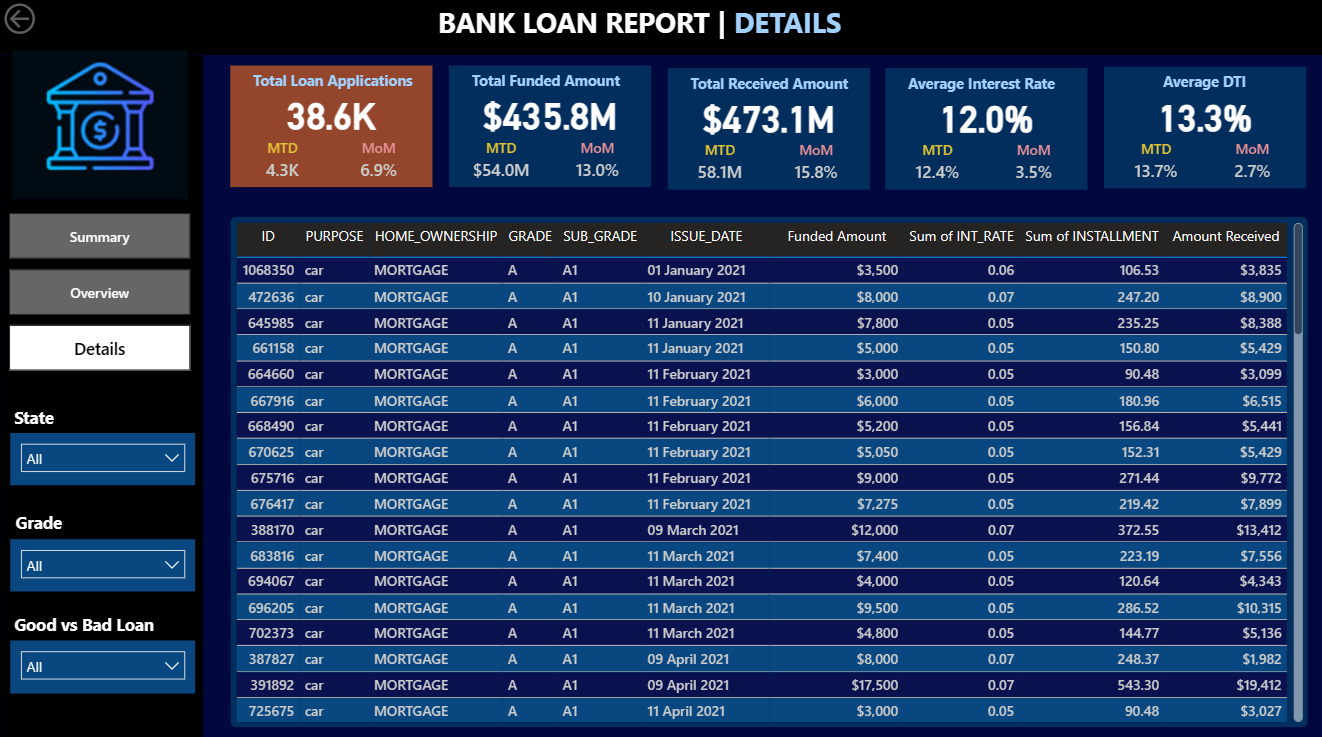

Layout of this report page (visuals, bound fields, positions):
{"tool":"powerbi","page":{"name":"Details","canvas":[1280,720],"ordinal":2},"visuals":[{"type":"shape","box":[0,0,1280.3,55],"z":0},{"type":"shape","box":[223.1,64.9,195.2,117.4],"z":0,"group":"g1"},{"type":"shape","box":[434.3,64.9,195.2,117.4],"z":0,"group":"g2"},{"type":"shape","box":[1066.7,66.2,195.2,117.4],"z":0,"group":"g5"},{"type":"shape","box":[645.5,67.6,195.2,117.4],"z":0,"group":"g3"},{"type":"shape","box":[855.4,67.6,195.2,117.4],"z":0,"group":"g4"},{"type":"card","fields":{"Values":["financial_loan.Total Loan Applications"]},"box":[223.1,79.9,195.2,64.2],"z":1000,"group":"g1"},{"type":"card","fields":{"Values":["financial_loan.Total Funded Amount"]},"box":[434.3,79.9,195.2,64.2],"z":1000,"group":"g2"},{"type":"card","fields":{"Values":["financial_loan.Avg DTI Ratio"]},"box":[1066.7,81.2,195.2,64.2],"z":1000,"group":"g5"},{"type":"card","fields":{"Values":["financial_loan.Total Amount Received"]},"box":[645.5,82.6,195.2,64.2],"z":1000,"group":"g3"},{"type":"card","fields":{"Values":["financial_loan.AVG Int Rate"]},"box":[855.4,82.6,195.2,64.2],"z":1000,"group":"g4"},{"type":"shape","box":[222.9,211.4,1040,492.9],"z":1000},{"type":"shape","box":[1.4,55.7,195.7,664.3],"z":2000},{"type":"textbox","box":[239.5,64.9,203.4,30],"z":2000,"group":"g1"},{"type":"textbox","box":[450.7,64.9,203.4,30],"z":2000,"group":"g2"},{"type":"textbox","box":[1118.1,66.3,148.6,39.3],"z":2000,"group":"g5"},{"type":"textbox","box":[661.9,67.6,203.4,30],"z":2000,"group":"g3"},{"type":"textbox","box":[871.8,67.6,203.4,30],"z":2000,"group":"g4"},{"type":"textbox","box":[418.2,0,443.8,55.1],"z":3000},{"type":"card","title":"MTD","fields":{"Values":["financial_loan.MTD Loan Applications"]},"box":[239.5,134.5,66.9,47.8],"z":3000,"group":"g1"},{"type":"card","title":"MTD","fields":{"Values":["financial_loan.MTD Funded Amount"]},"box":[450.7,134.5,66.9,47.8],"z":3000,"group":"g2"},{"type":"card","title":"MTD","fields":{"Values":["financial_loan.MTD Avg DTI"]},"box":[1083.1,135.8,66.9,47.8],"z":3000,"group":"g5"},{"type":"card","title":"MTD","fields":{"Values":["financial_loan.MTD Received Amount"]},"box":[661.9,137.2,66.9,47.8],"z":3000,"group":"g3"},{"type":"card","title":"MTD","fields":{"Values":["financial_loan.MTD Avg Int Rate"]},"box":[871.8,137.2,66.9,47.8],"z":3000,"group":"g4"},{"type":"group","id":"g1","title":"Group 1","box":[223.1,64.9,220.4,117.6],"z":4000},{"type":"card","title":"MoM","fields":{"Values":["financial_loan.MoM Loan Applications"]},"box":[332.3,134.5,66.9,47.8],"z":4000,"group":"g1"},{"type":"card","title":"MoM","fields":{"Values":["financial_loan.MoM Total Funded Amount"]},"box":[543.5,134.5,66.9,47.8],"z":4000,"group":"g2"},{"type":"card","title":"MoM","fields":{"Values":["financial_loan.MoM Avg DTI"]},"box":[1175.9,135.8,66.9,47.8],"z":4000,"group":"g5"},{"type":"card","title":"MoM","fields":{"Values":["financial_loan.MoM Total Received Amount"]},"box":[754.7,137.2,66.9,47.8],"z":4000,"group":"g3"},{"type":"card","title":"MoM","fields":{"Values":["financial_loan.MoM Avg Int Rate"]},"box":[964.6,137.2,66.9,47.8],"z":4000,"group":"g4"},{"type":"group","id":"g2","title":"Group 1","box":[434.3,64.9,220.4,116.3],"z":5000},{"type":"group","id":"g3","title":"Group 1","box":[645.5,67.6,219,117.6],"z":6000},{"type":"group","id":"g4","title":"Group 1","box":[855.4,67.6,220.4,117.6],"z":7000},{"type":"group","id":"g5","title":"Group 1","box":[1066.7,66.2,200.1,117.6],"z":8000},{"type":"slicer","fields":{"Values":["financial_loan.address_state"]},"box":[11.4,420,178.6,50],"z":9000},{"type":"slicer","fields":{"Values":["financial_loan.grade"]},"box":[11.4,522.9,178.6,50],"z":10000},{"type":"slicer","fields":{"Values":["financial_loan.Good vs Bad Loan"]},"box":[11.4,620,178.6,51.4],"z":11000},{"type":"textbox","box":[10,388.6,122.9,31.4],"z":12000},{"type":"textbox","box":[11.4,490,122.9,32.9],"z":13000},{"type":"textbox","box":[9.7,588.7,176.1,31.4],"z":14000},{"type":"tableEx","fields":{"Values":["financial_loan.id","financial_loan.purpose","financial_loan.home_ownership","financial_loan.grade","financial_loan.sub_grade","financial_loan.issue_date","financial_loan.Total Funded Amount","Sum(financial_loan.int_rate)","Sum(financial_loan.installment)","financial_loan.Total Amount Received"]},"box":[222.9,212.9,1040,491.4],"z":15000},{"type":"actionButton","box":[0,0,100,40],"z":16000},{"type":"pageNavigator","box":[10,207.1,175.7,152.9],"z":17000},{"type":"image","box":[0,45.7,195.7,152.9],"z":18000}]}

Visuals, with their boxes in screenshot pixels (x1, y1, x2, y2), scaled from the page's 1280x720 canvas onto the 1322x737 screenshot:
shape: pyautogui.locateOnScreen(0, 0, 1321, 56)
shape: pyautogui.locateOnScreen(230, 66, 432, 187)
shape: pyautogui.locateOnScreen(449, 66, 650, 187)
shape: pyautogui.locateOnScreen(1102, 68, 1303, 188)
shape: pyautogui.locateOnScreen(667, 69, 868, 189)
shape: pyautogui.locateOnScreen(883, 69, 1085, 189)
card - financial_loan.Total Loan Applications: pyautogui.locateOnScreen(230, 82, 432, 148)
card - financial_loan.Total Funded Amount: pyautogui.locateOnScreen(449, 82, 650, 148)
card - financial_loan.Avg DTI Ratio: pyautogui.locateOnScreen(1102, 83, 1303, 149)
card - financial_loan.Total Amount Received: pyautogui.locateOnScreen(667, 85, 868, 150)
card - financial_loan.AVG Int Rate: pyautogui.locateOnScreen(883, 85, 1085, 150)
shape: pyautogui.locateOnScreen(230, 216, 1304, 721)
shape: pyautogui.locateOnScreen(1, 57, 204, 736)
textbox: pyautogui.locateOnScreen(247, 66, 457, 97)
textbox: pyautogui.locateOnScreen(465, 66, 676, 97)
textbox: pyautogui.locateOnScreen(1155, 68, 1308, 108)
textbox: pyautogui.locateOnScreen(684, 69, 894, 100)
textbox: pyautogui.locateOnScreen(900, 69, 1110, 100)
textbox: pyautogui.locateOnScreen(432, 0, 890, 56)
"MTD" card: pyautogui.locateOnScreen(247, 138, 316, 187)
"MTD" card: pyautogui.locateOnScreen(465, 138, 535, 187)
"MTD" card: pyautogui.locateOnScreen(1119, 139, 1188, 188)
"MTD" card: pyautogui.locateOnScreen(684, 140, 753, 189)
"MTD" card: pyautogui.locateOnScreen(900, 140, 970, 189)
"Group 1" group: pyautogui.locateOnScreen(230, 66, 458, 187)
"MoM" card: pyautogui.locateOnScreen(343, 138, 412, 187)
"MoM" card: pyautogui.locateOnScreen(561, 138, 630, 187)
"MoM" card: pyautogui.locateOnScreen(1214, 139, 1284, 188)
"MoM" card: pyautogui.locateOnScreen(779, 140, 849, 189)
"MoM" card: pyautogui.locateOnScreen(996, 140, 1065, 189)
"Group 1" group: pyautogui.locateOnScreen(449, 66, 676, 185)
"Group 1" group: pyautogui.locateOnScreen(667, 69, 893, 190)
"Group 1" group: pyautogui.locateOnScreen(883, 69, 1111, 190)
"Group 1" group: pyautogui.locateOnScreen(1102, 68, 1308, 188)
slicer - financial_loan.address_state: pyautogui.locateOnScreen(12, 430, 196, 481)
slicer - financial_loan.grade: pyautogui.locateOnScreen(12, 535, 196, 586)
slicer - financial_loan.Good vs Bad Loan: pyautogui.locateOnScreen(12, 635, 196, 687)
textbox: pyautogui.locateOnScreen(10, 398, 137, 430)
textbox: pyautogui.locateOnScreen(12, 502, 139, 535)
textbox: pyautogui.locateOnScreen(10, 603, 192, 635)
tableEx - financial_loan.id x financial_loan.purpose: pyautogui.locateOnScreen(230, 218, 1304, 721)
actionButton: pyautogui.locateOnScreen(0, 0, 103, 41)
pageNavigator: pyautogui.locateOnScreen(10, 212, 192, 368)
image: pyautogui.locateOnScreen(0, 47, 202, 203)
